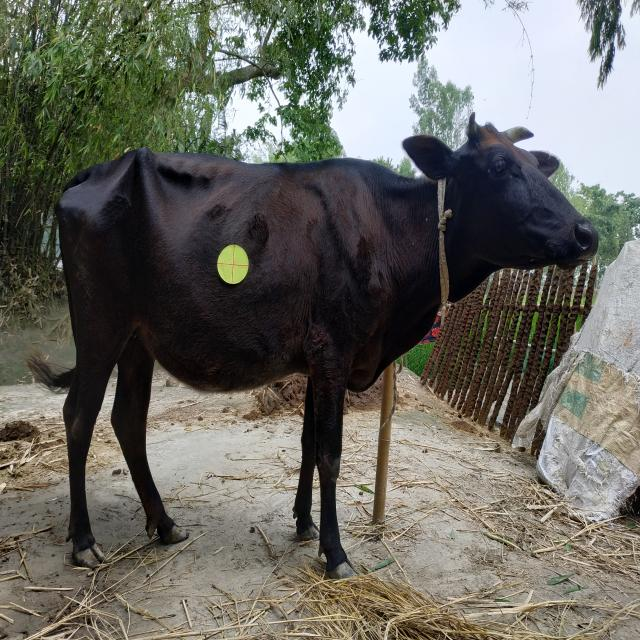badan_sapi: (64, 159, 387, 390)
sapi: (52, 118, 610, 585)
